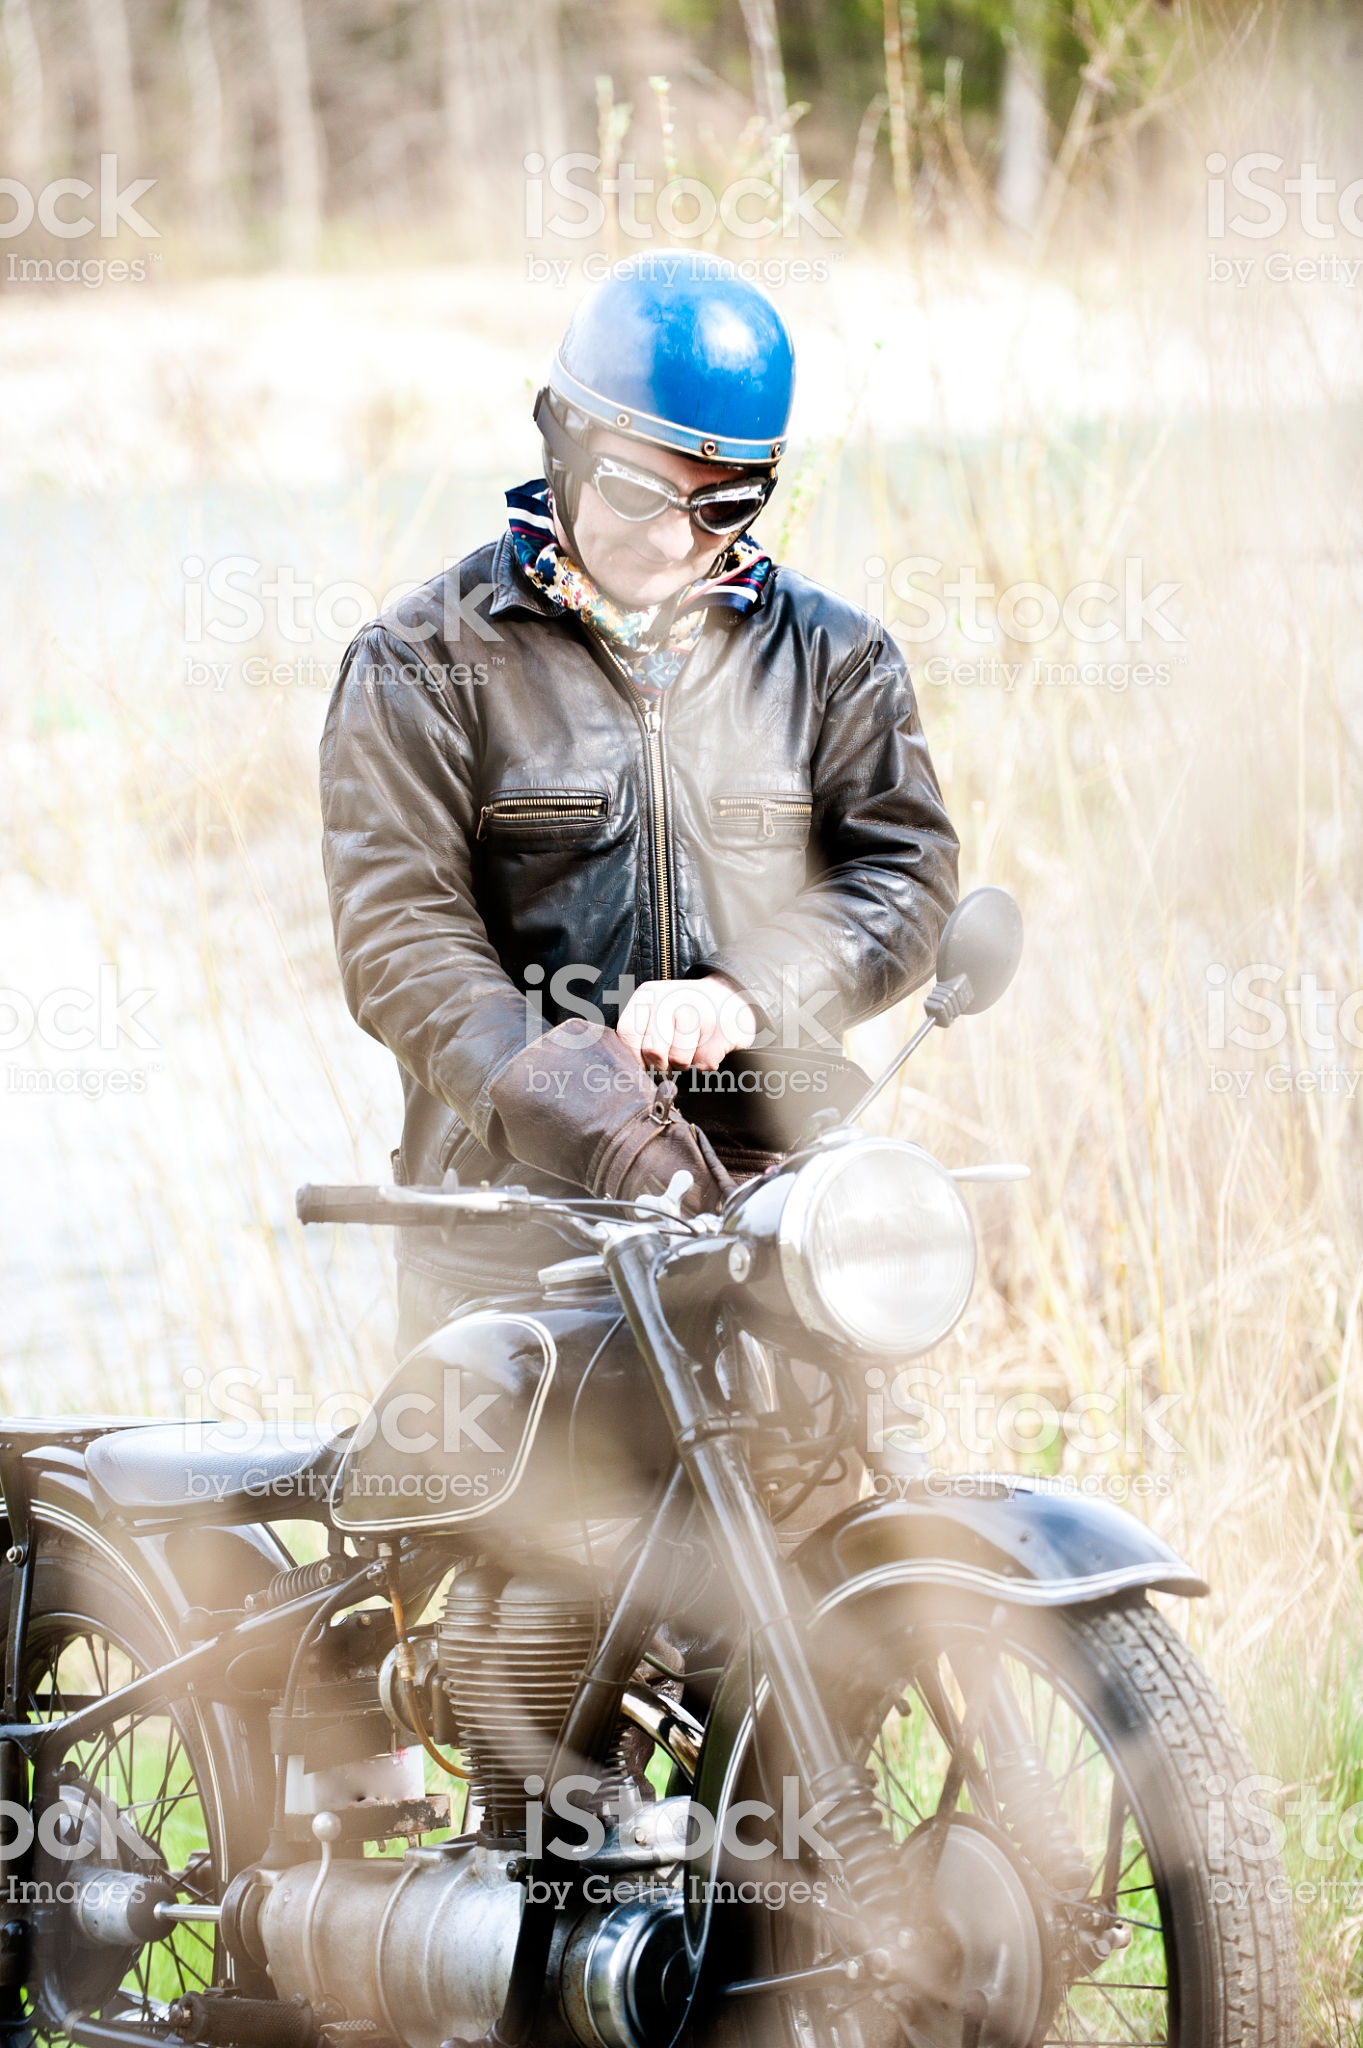helmet: (548, 243, 806, 461)
